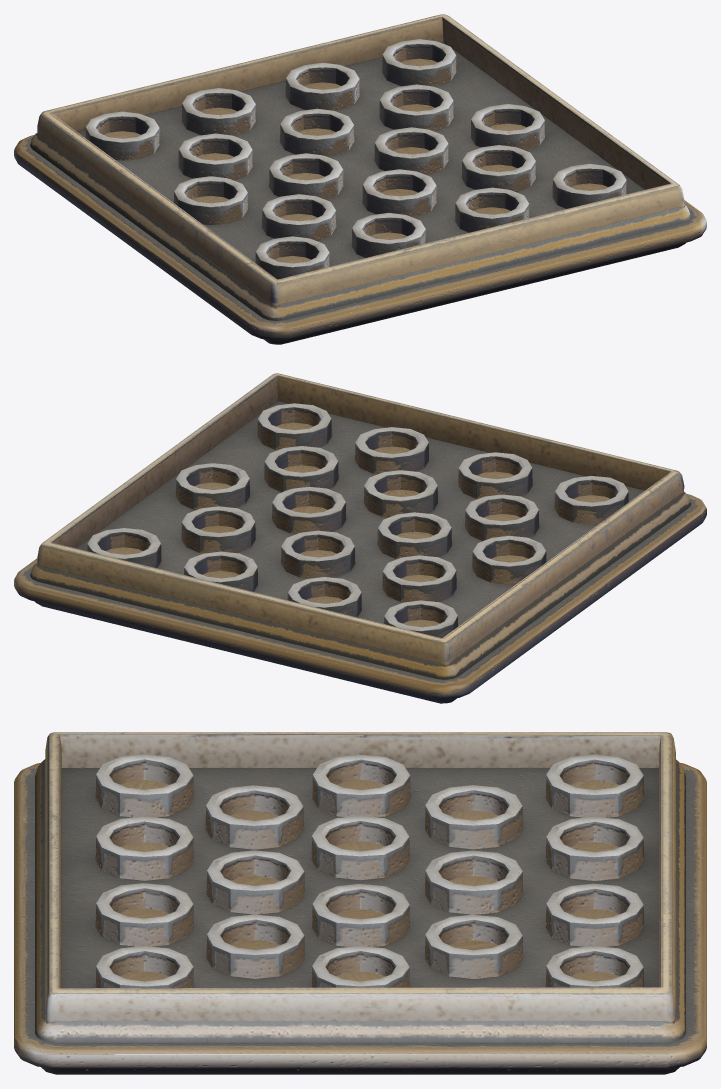
File: Obstacle-21.fbx
The picture shows the model from 3 angles, top to bottom: view 1: azimuth 30°, elevation 25°; view 2: azimuth 150°, elevation 25°; view 3: azimuth 270°, elevation 25°; orthographic projection. The views are drawn at different scales.
Visible parts, largest first — view 1: Obstacle-21; view 2: Obstacle-21; view 3: Obstacle-21.
Boxes of the visible parts, left/top/right/bottom form: Obstacle-21: left=14, top=14, right=706, bottom=344; Obstacle-21: left=14, top=373, right=706, bottom=703; Obstacle-21: left=14, top=732, right=706, bottom=1074.
Size of the model in its own units: 1.06 by 0.1413 by 1.06.
